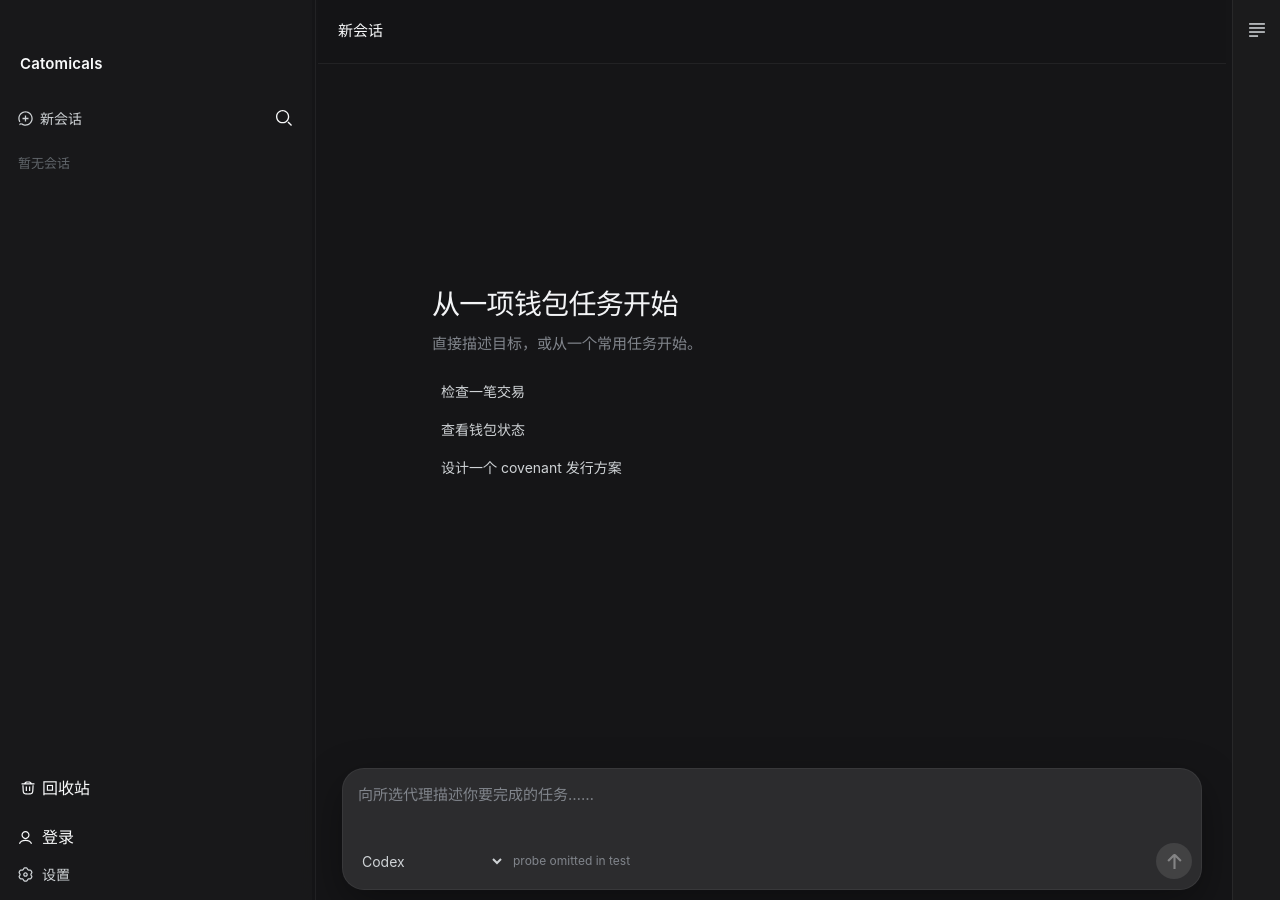
session-backed conversation › keeps a manual rename made while title generation is running
Type "初始问题" into the text box with placeholder "向所选代理描述你要完成的任务……" at [772, 805], box [343,769,1201,841]
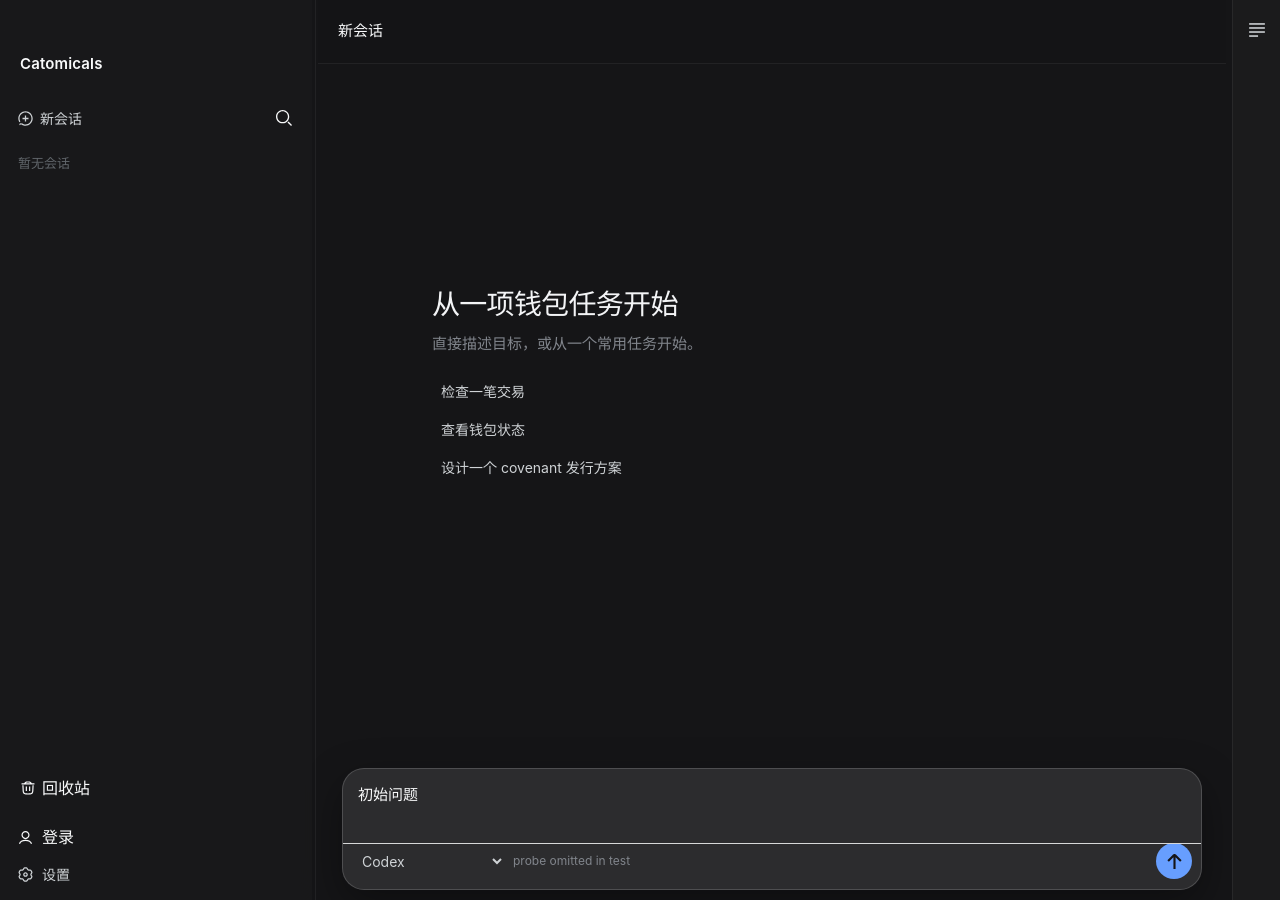
Click the button named "发送消息" at [1174, 861], box [1156,843,1192,879]
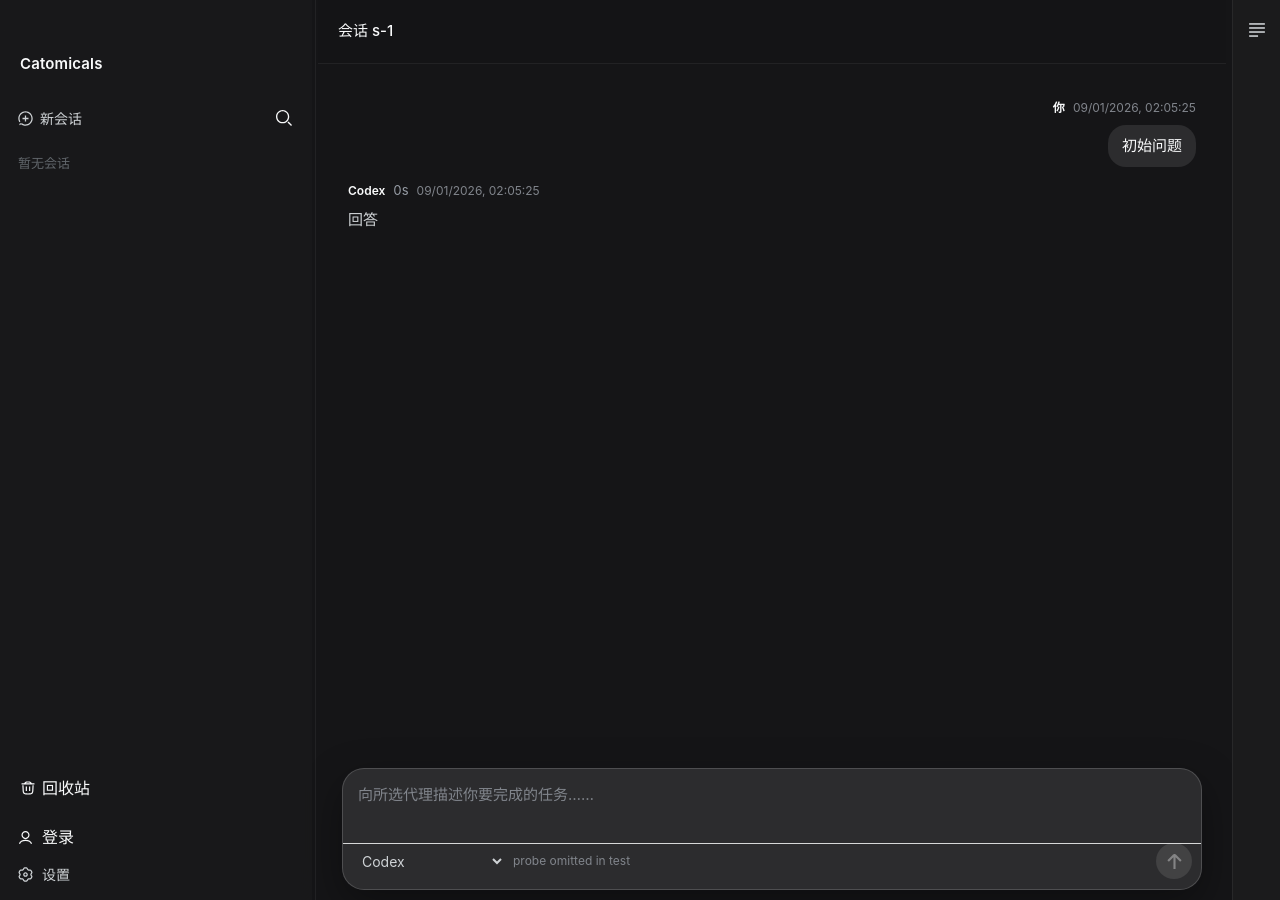
Expected: the text "回答" is shown, [348,210,378,228]
